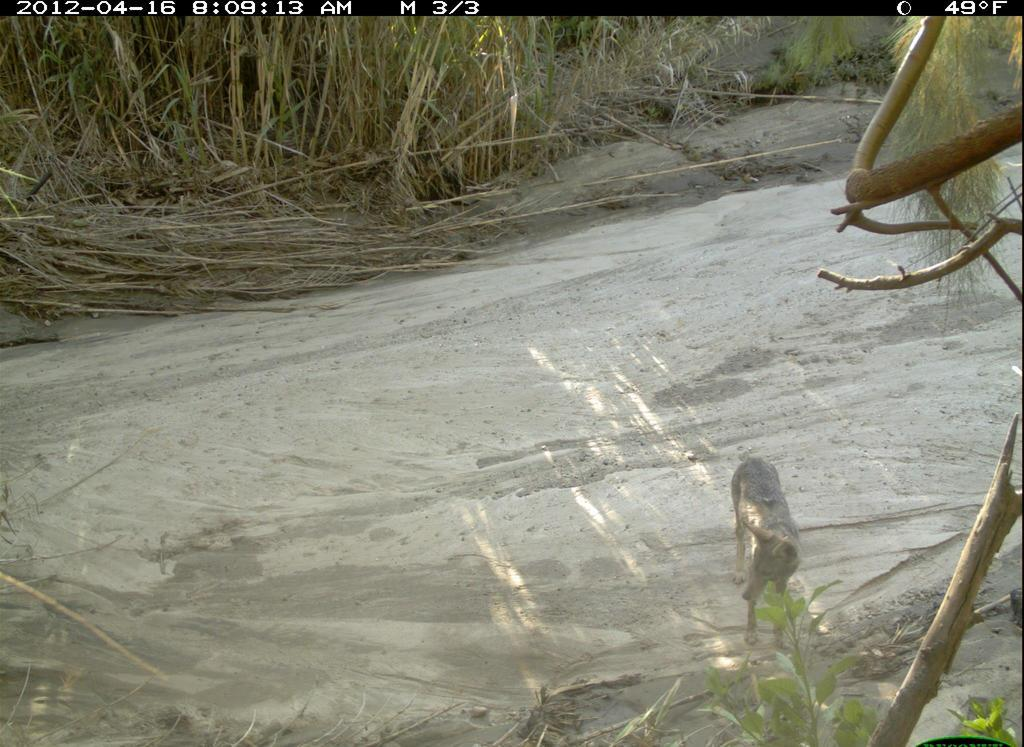coyote: (715, 451, 818, 655)
